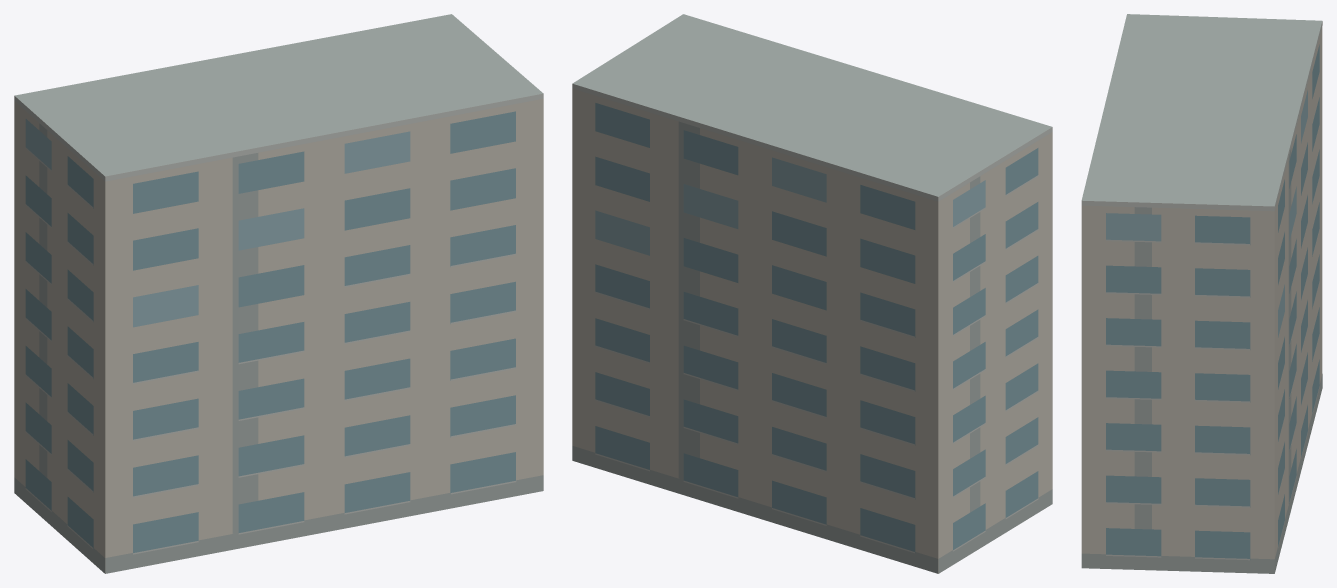
Rendered from survey-upis-32769960.glb.
3 views of the same model, side by side, from view 1: azimuth 30°, elevation 25°; view 2: azimuth 150°, elevation 25°; view 3: azimuth 270°, elevation 25° (orthographic). The views are drawn at different scales.
Visible parts, largest first — view 1: survey-upis-32769960.tmp; view 2: survey-upis-32769960.tmp; view 3: survey-upis-32769960.tmp.
Part boxes in pixels (x1,y1,x2,y2): survey-upis-32769960.tmp: (14,14,543,573); survey-upis-32769960.tmp: (572,14,1052,573); survey-upis-32769960.tmp: (1081,14,1322,573).
Size of the model in its own units: 21.02 by 18.7 by 11.12.
